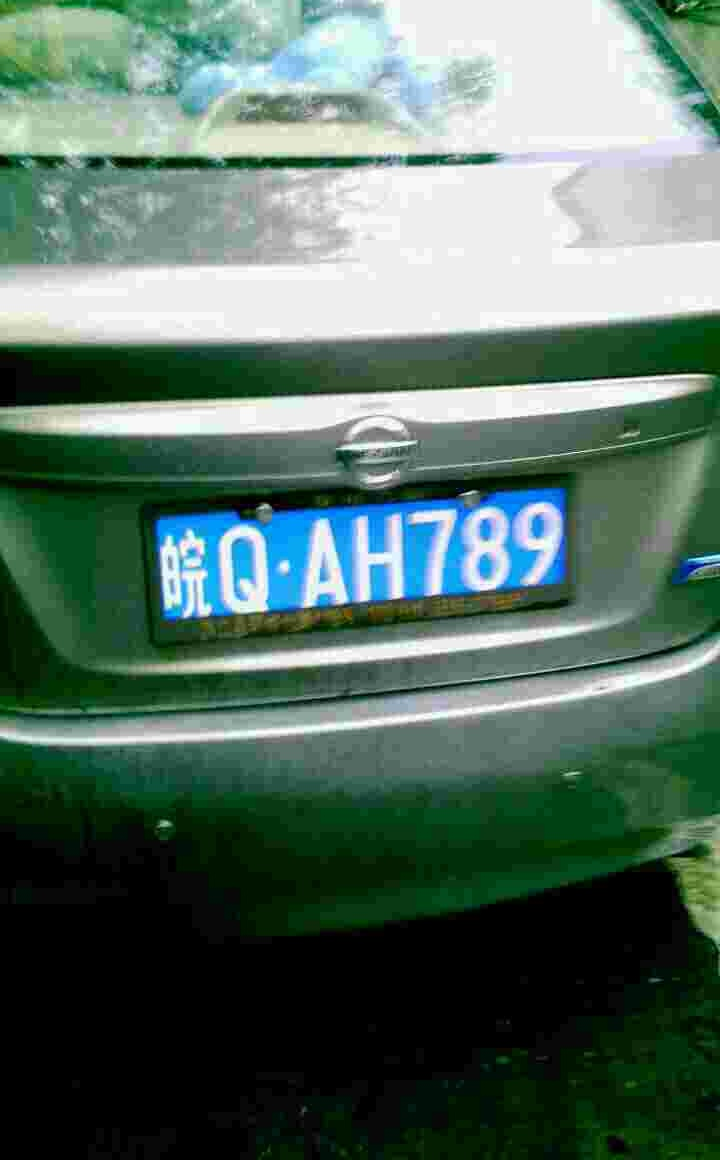license_plate: (151, 491, 583, 621)
